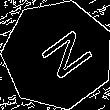N_SW: (25, 24, 90, 86)
